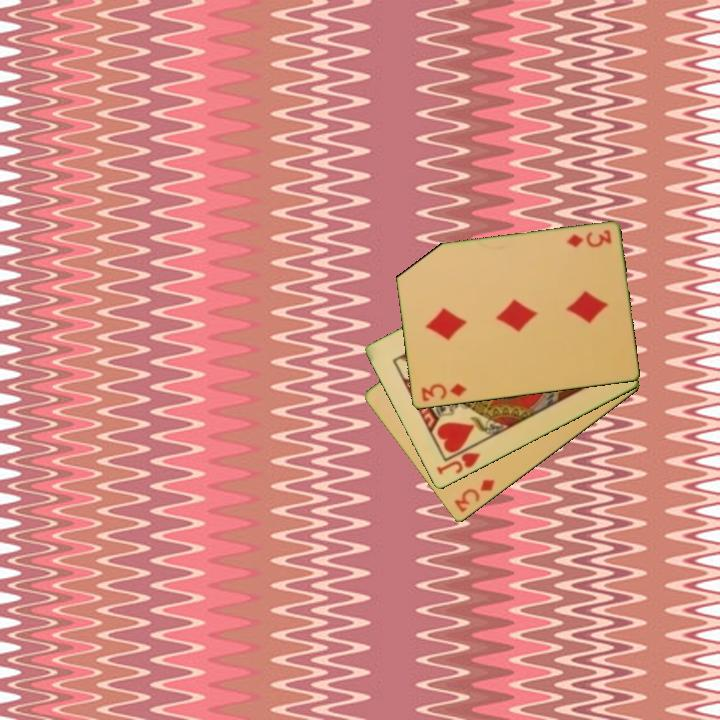3d: (451, 476, 498, 516), (418, 380, 469, 405), (563, 226, 614, 250)
Jh: (433, 440, 483, 478)
